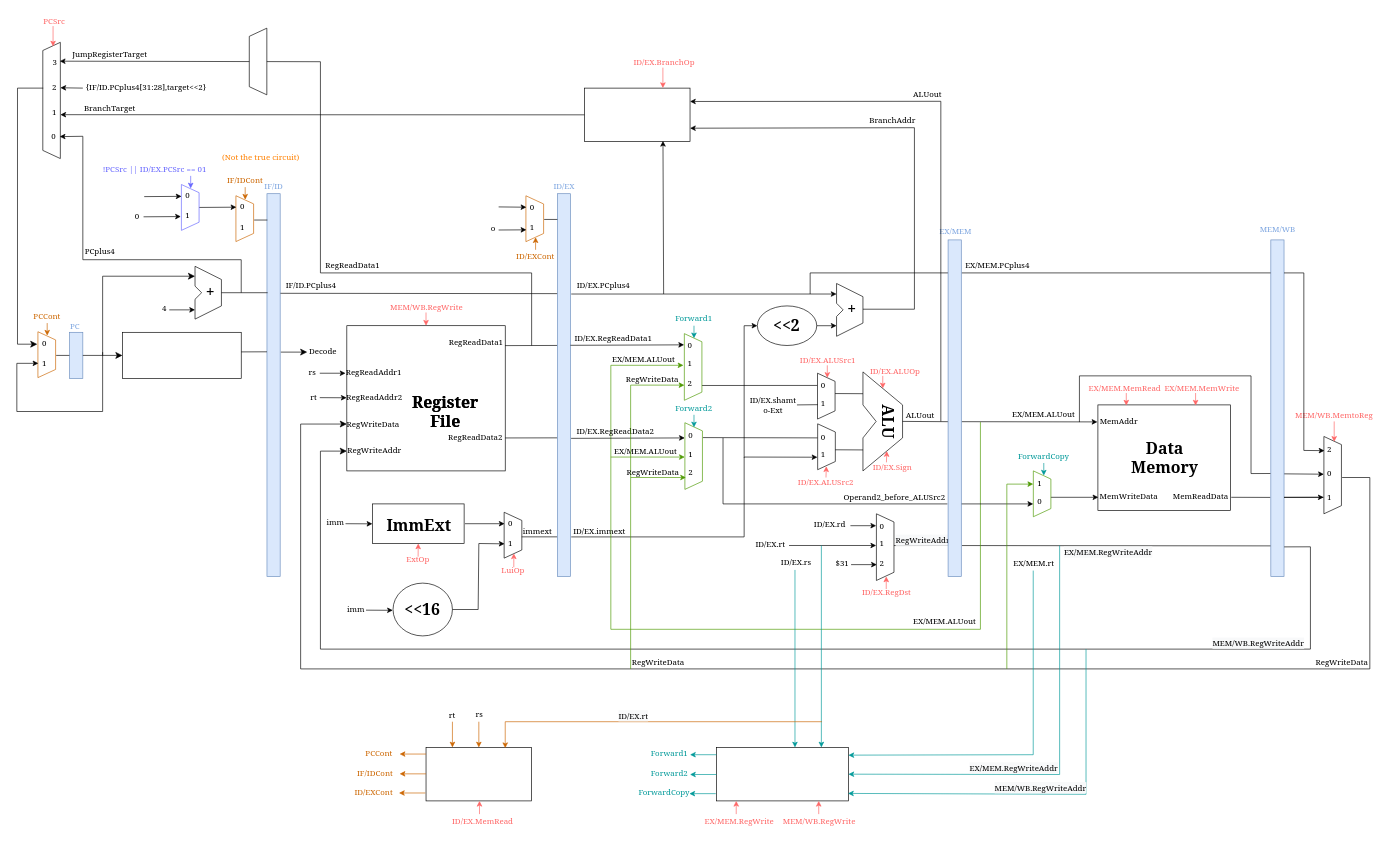
Some shapes in this 1388 by 842 pixel diagram are drawn without their labels. Each missing label, with the centre of its shape:
"Branch Unit" belongs at [637,114].
"Forwarding Unit" belongs at [782,774].
"Hazard Unit" belongs at [478,774].
"Instruction Memory" belongs at [181,355].
